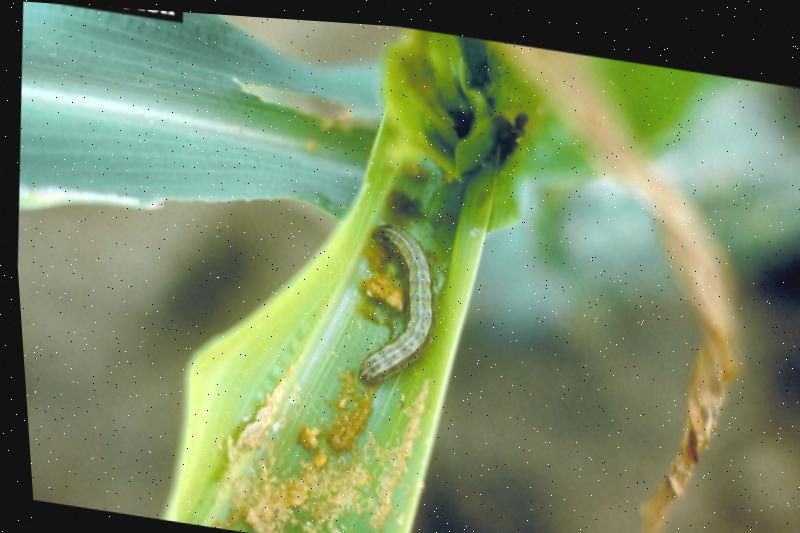fall-armyworm: (356, 220, 432, 380)
